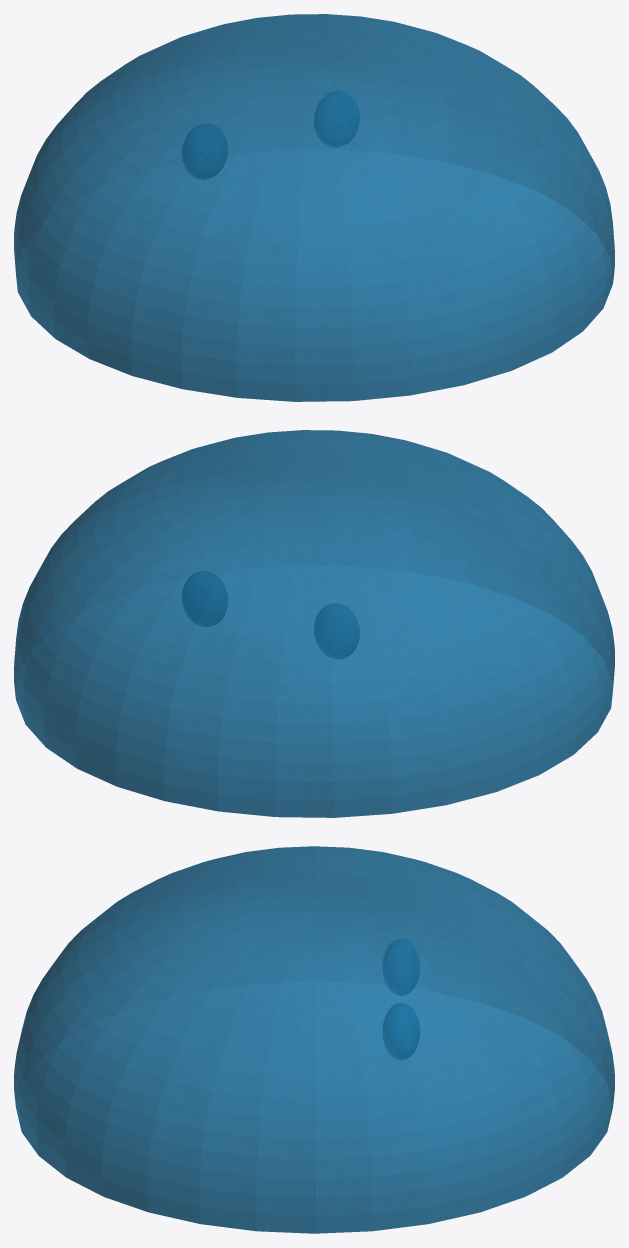
The model's file is slime_pbr_review.glb.
The picture shows the model from 3 angles, top to bottom: view 1: azimuth 30°, elevation 25°; view 2: azimuth 150°, elevation 25°; view 3: azimuth 270°, elevation 25°; orthographic projection.
Parts seen in each view (by area): view 1: world, nucleus_-1, nucleus_1; view 2: world, nucleus_1, nucleus_-1; view 3: world, nucleus_-1, nucleus_1.
Boxes of the visible parts, x1=… form: world: x1=14, y1=14, x2=614, y2=401; nucleus_-1: x1=182, y1=123, x2=227, y2=179; nucleus_1: x1=314, y1=91, x2=359, y2=147; world: x1=14, y1=430, x2=614, y2=817; nucleus_1: x1=182, y1=571, x2=227, y2=626; nucleus_-1: x1=314, y1=603, x2=359, y2=659; world: x1=14, y1=846, x2=614, y2=1233; nucleus_-1: x1=382, y1=938, x2=419, y2=995; nucleus_1: x1=382, y1=1003, x2=419, y2=1059.
Size of the model in its own units: 1.11 by 0.45 by 1.11.
Materials: 1 (1 with a texture image).
